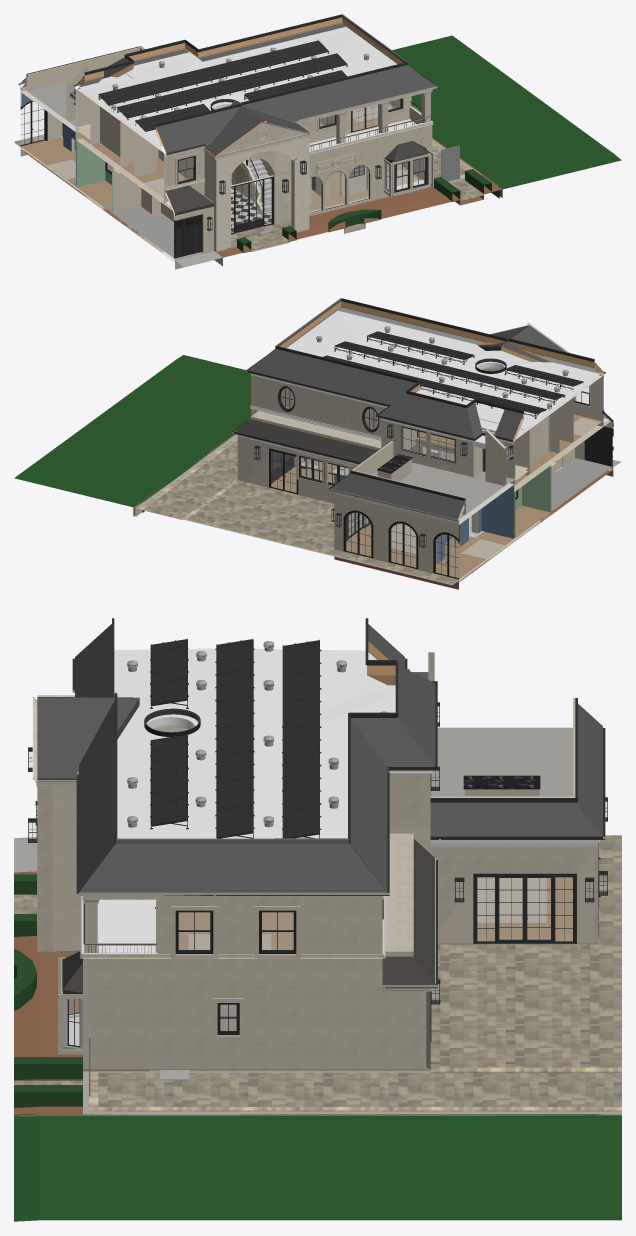
The model's file is elevation-east-0481d6ebe207.glb.
3 renders of one model, top to bottom at view 1: azimuth 30°, elevation 25°; view 2: azimuth 150°, elevation 25°; view 3: azimuth 270°, elevation 25°, orthographic. The views are drawn at different scales.
Parts seen in each view (by area): view 1: elevation-east-aee2d046b0172b1e, elevation-east-d56ee2a9d54b1fc2, elevation-east-e33d7b378dc851e2, elevation-east-0b9d5d1cd0b2c60f, elevation-east-7cf8e5cfa8b264af, elevation-east-f9d31319fa3bf46f, elevation-east-698abdfdc6fb970d, elevation-east-25c3ff3929e46046, elevation-east-b39baa29700ae605, elevation-east-3b0077416469e01b, elevation-east-2575515a05775d9e, elevation-east-e566fc302b71b574 (+56 smaller); view 2: elevation-east-aee2d046b0172b1e, elevation-east-d56ee2a9d54b1fc2, elevation-east-9a168d6ce9d31ade, elevation-east-c91f911e25c8cae7, elevation-east-3b0077416469e01b, elevation-east-969b861f9850351e, elevation-east-3763e2fb8578d282, elevation-east-2c1fd33d433632d0, elevation-east-5febae1537653d02, elevation-east-0b9d5d1cd0b2c60f, elevation-east-4ce8397b8f5ef0f7, elevation-east-ded88bd99590d377 (+40 smaller); view 3: elevation-east-aee2d046b0172b1e, elevation-east-9a168d6ce9d31ade, elevation-east-d56ee2a9d54b1fc2, elevation-east-2c1fd33d433632d0, elevation-east-a75a0c9c223328ee, elevation-east-af97eba351c411ae, elevation-east-ded88bd99590d377, elevation-east-e706aa16b4547c37, elevation-east-adb6f49a6d2cbec3, elevation-east-0b9d5d1cd0b2c60f, elevation-east-7cf8e5cfa8b264af, elevation-east-3d5fbc3a2a5f9c05 (+41 smaller).
Part boxes in pixels (x1,y1,x2,y2): elevation-east-aee2d046b0172b1e: (21, 35, 621, 257); elevation-east-d56ee2a9d54b1fc2: (85, 30, 396, 146); elevation-east-e33d7b378dc851e2: (242, 65, 435, 121); elevation-east-0b9d5d1cd0b2c60f: (116, 53, 347, 119); elevation-east-7cf8e5cfa8b264af: (98, 40, 329, 106); elevation-east-f9d31319fa3bf46f: (224, 134, 301, 249); elevation-east-698abdfdc6fb970d: (231, 176, 274, 234); elevation-east-25c3ff3929e46046: (156, 106, 239, 153); elevation-east-b39baa29700ae605: (309, 121, 432, 169); elevation-east-3b0077416469e01b: (21, 137, 407, 206); elevation-east-2575515a05775d9e: (75, 103, 409, 204); elevation-east-e566fc302b71b574: (80, 27, 350, 145); elevation-east-aee2d046b0172b1e: (14, 355, 613, 589); elevation-east-d56ee2a9d54b1fc2: (286, 310, 599, 429); elevation-east-9a168d6ce9d31ade: (182, 479, 458, 585); elevation-east-c91f911e25c8cae7: (247, 348, 415, 405); elevation-east-3b0077416469e01b: (239, 457, 541, 579); elevation-east-969b861f9850351e: (334, 494, 460, 572); elevation-east-3763e2fb8578d282: (251, 375, 385, 436); elevation-east-2c1fd33d433632d0: (138, 436, 237, 519); elevation-east-5febae1537653d02: (331, 473, 464, 519); elevation-east-0b9d5d1cd0b2c60f: (334, 341, 565, 404); elevation-east-4ce8397b8f5ef0f7: (378, 393, 474, 438); elevation-east-ded88bd99590d377: (371, 462, 513, 517); elevation-east-aee2d046b0172b1e: (14, 871, 621, 1221); elevation-east-9a168d6ce9d31ade: (430, 835, 621, 1072); elevation-east-d56ee2a9d54b1fc2: (114, 648, 395, 838); elevation-east-2c1fd33d433632d0: (89, 1072, 621, 1111); elevation-east-a75a0c9c223328ee: (79, 843, 386, 892); elevation-east-af97eba351c411ae: (285, 974, 426, 1069); elevation-east-ded88bd99590d377: (431, 727, 572, 796); elevation-east-e706aa16b4547c37: (430, 846, 593, 943); elevation-east-adb6f49a6d2cbec3: (157, 899, 382, 953); elevation-east-0b9d5d1cd0b2c60f: (215, 639, 254, 838); elevation-east-7cf8e5cfa8b264af: (282, 639, 321, 838); elevation-east-3d5fbc3a2a5f9c05: (473, 873, 576, 943).
Size of the model in its own units: 29.52 by 8.45 by 19.78.
78 materials, 17 textured.
